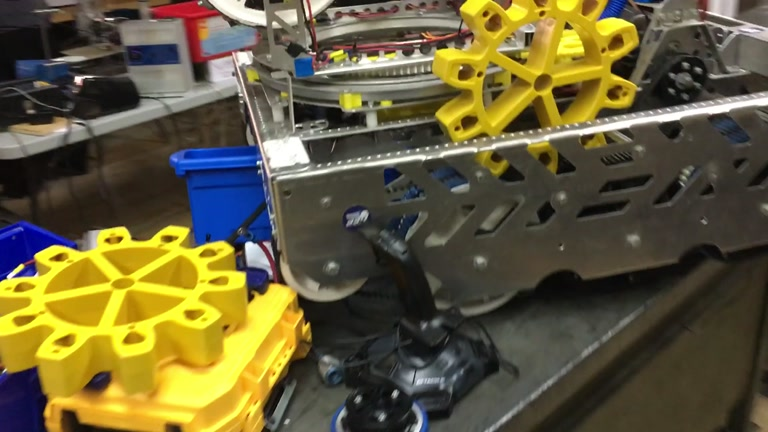gear: (1, 224, 250, 393), (432, 1, 640, 184)
